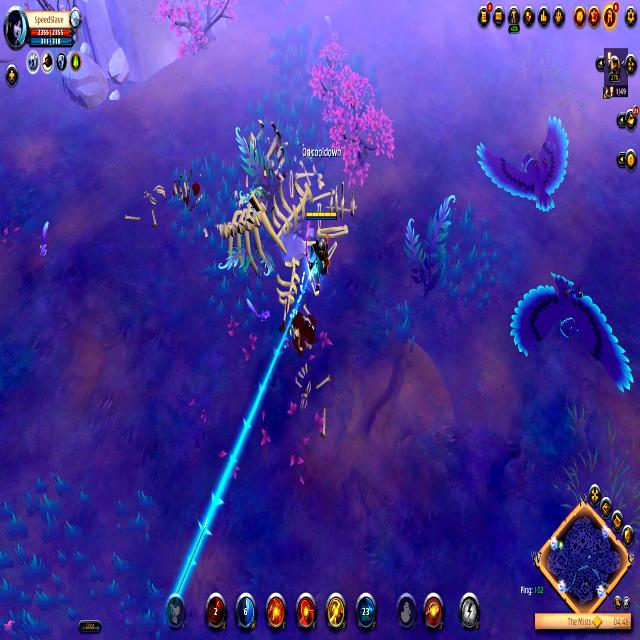red: (302, 204, 347, 294)
